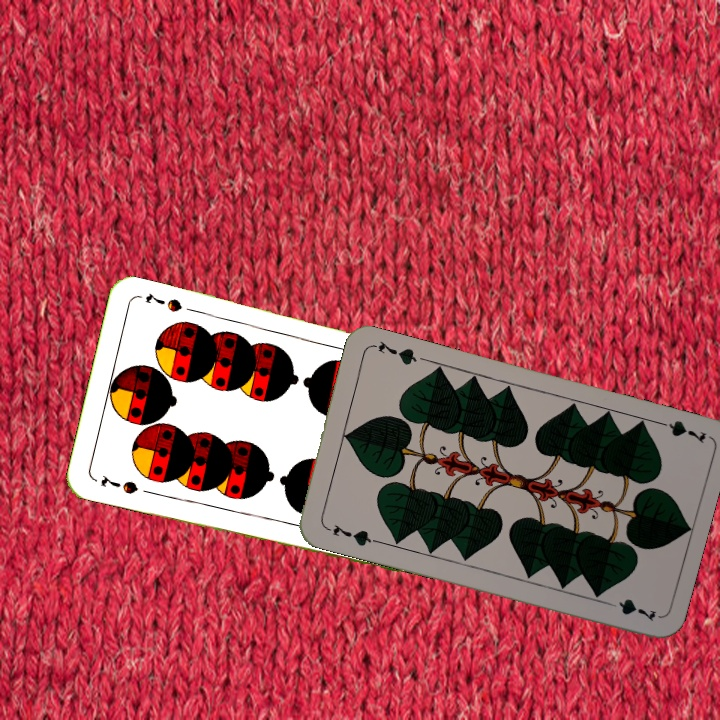G7: (650, 416, 708, 446), (321, 520, 379, 549)
S7: (96, 470, 141, 497)
